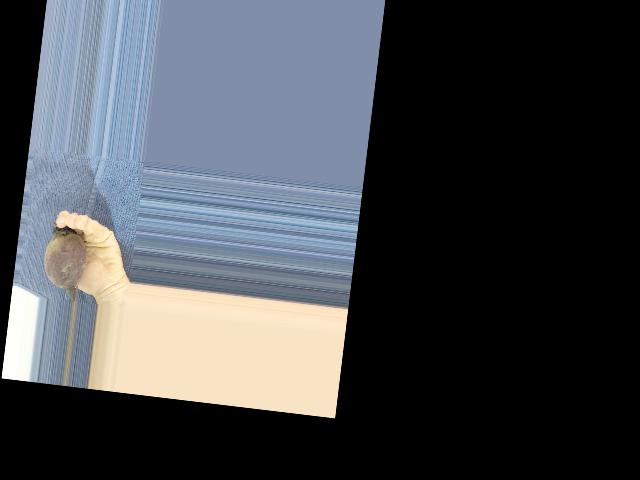beet: (40, 219, 91, 302)
